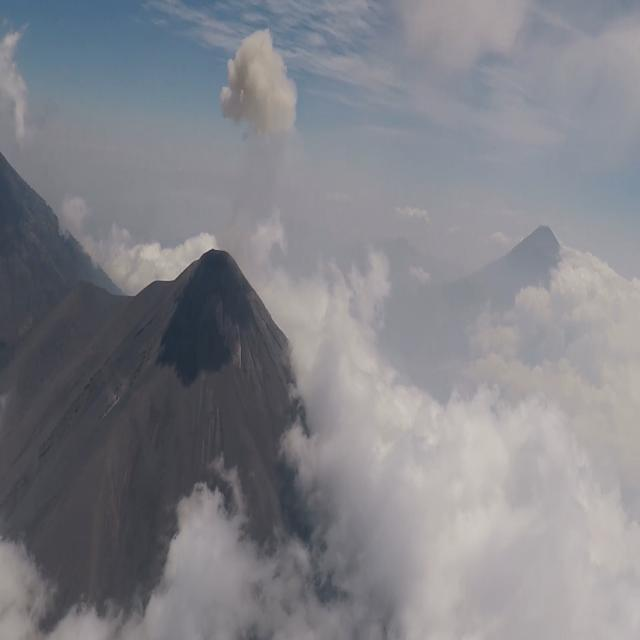Plume: (218, 21, 304, 146)
Summit: (132, 236, 290, 374)
